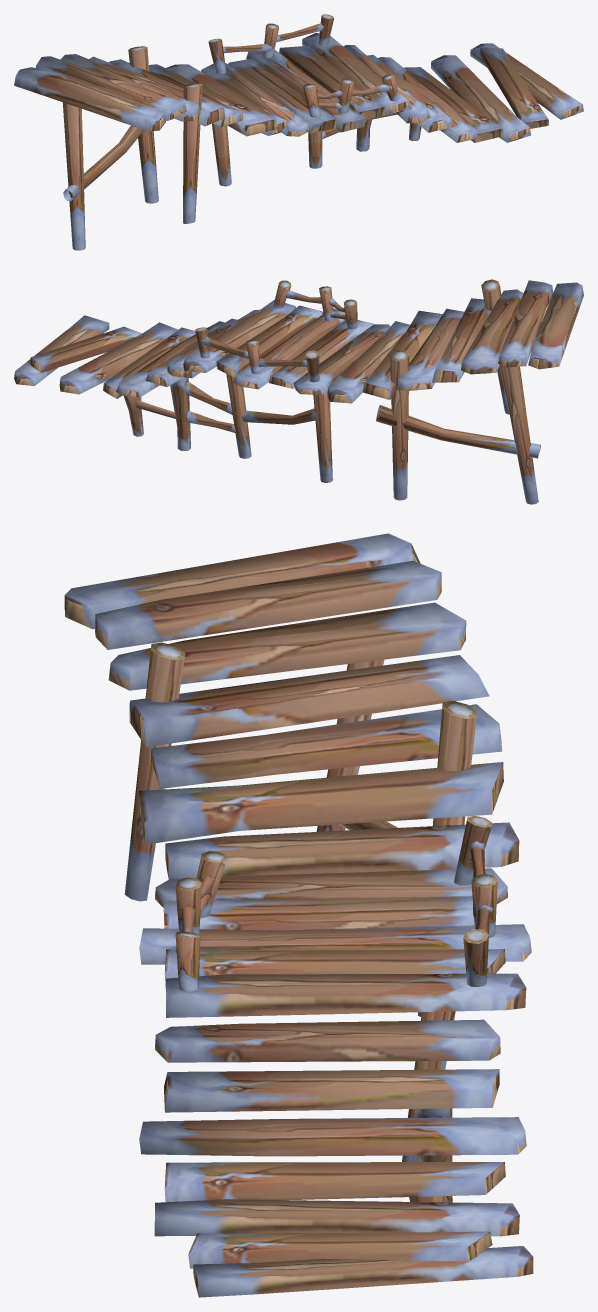
The model's file is Map_10_wooden17.FBX.
The picture shows the model from 3 angles, top to bottom: view 1: azimuth 30°, elevation 25°; view 2: azimuth 150°, elevation 25°; view 3: azimuth 270°, elevation 25°; orthographic projection. The views are drawn at different scales.
Visible parts, largest first — view 1: Map_10_wooden17; view 2: Map_10_wooden17; view 3: Map_10_wooden17.
Boxes of the visible parts, x1,y1,x2,y2 form: Map_10_wooden17: (14, 14, 583, 250); Map_10_wooden17: (14, 279, 583, 504); Map_10_wooden17: (64, 533, 533, 1297).
Bounding box in the file's own units: 296 × 93.92 × 115.
